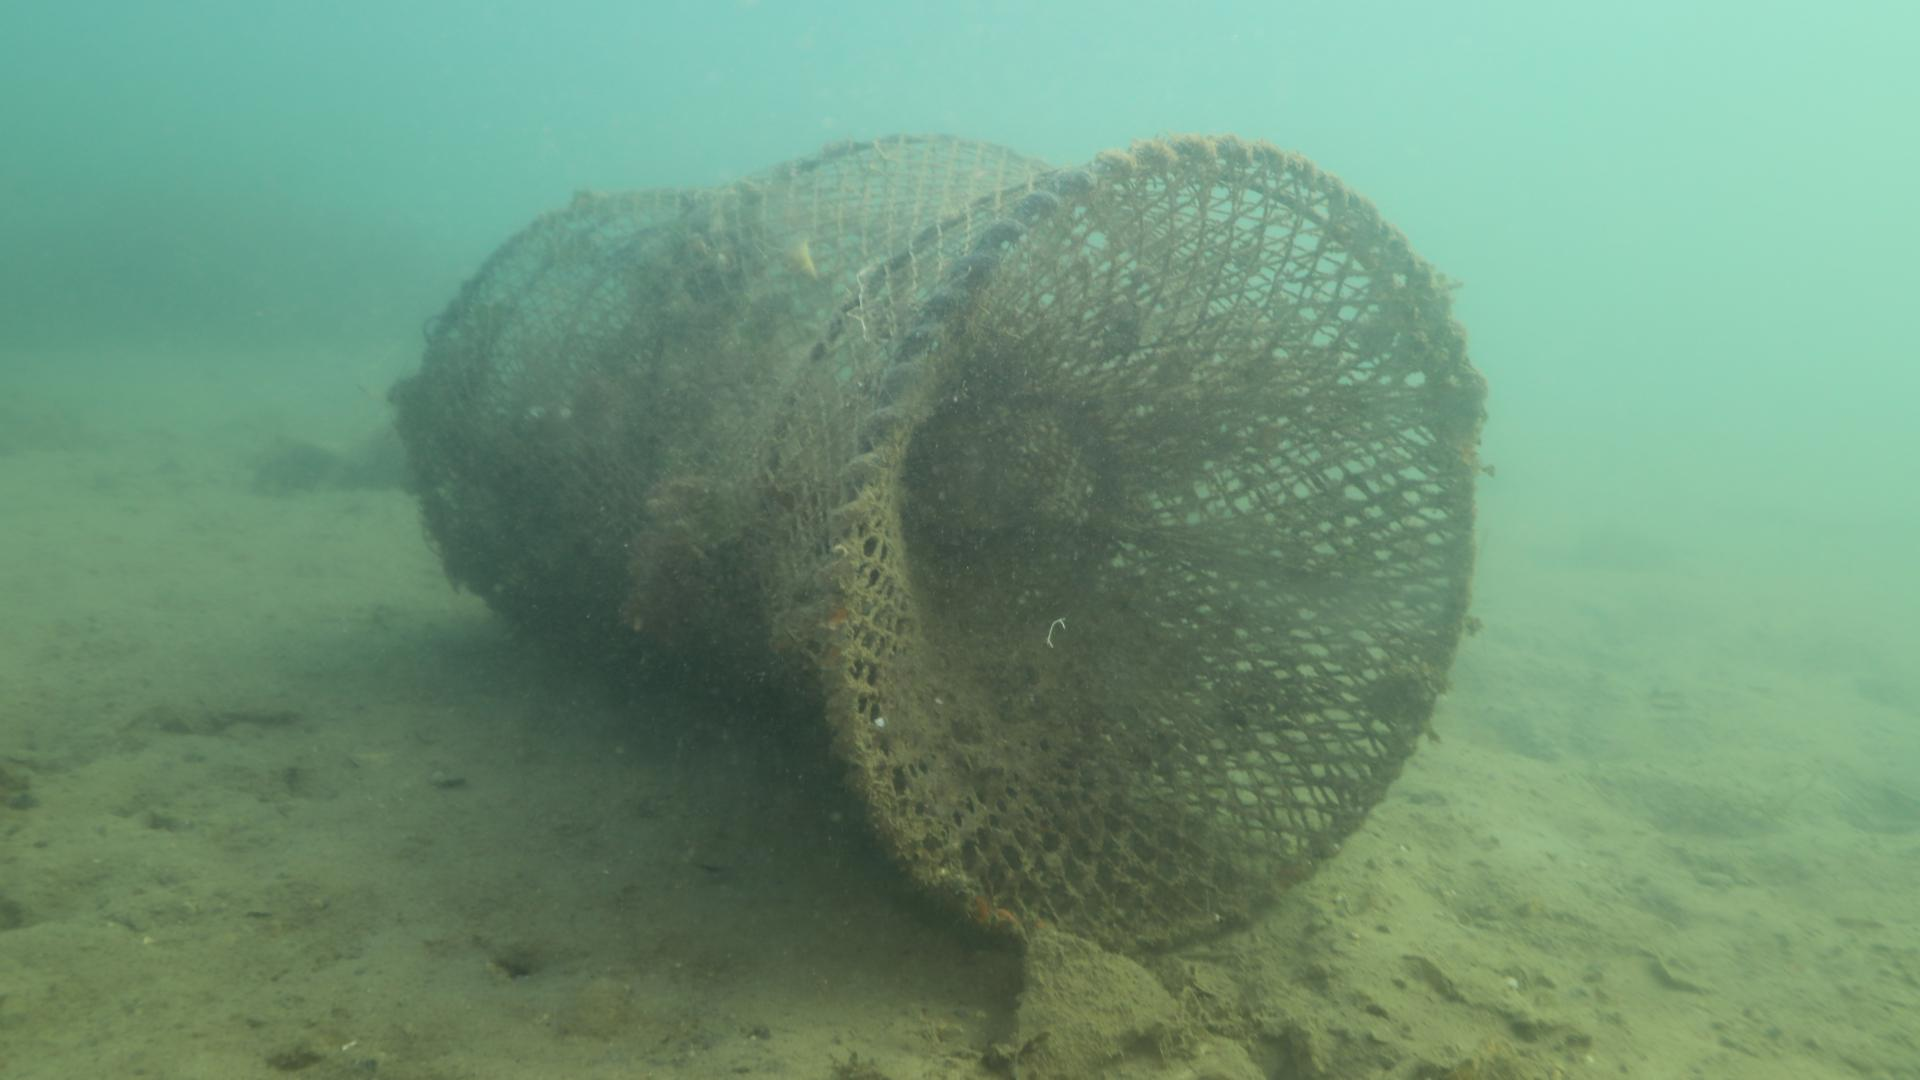spring fish trap: (396, 127, 1478, 955)
